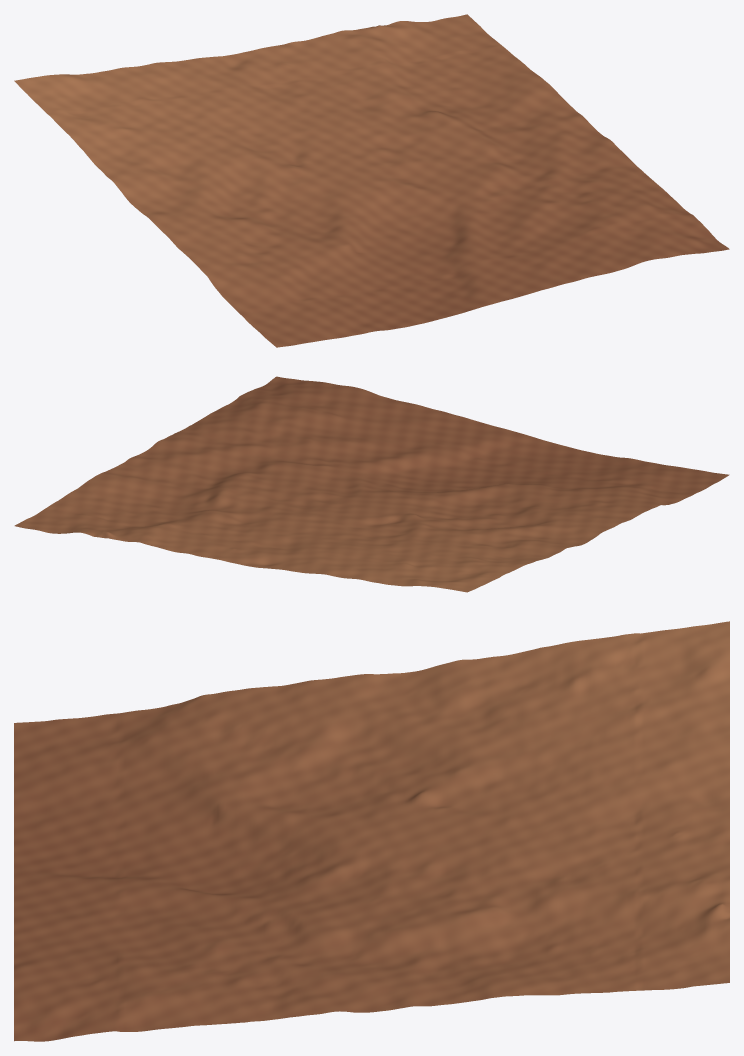
File: gale-hirise.glb
3 renders of one model, top to bottom at view 1: azimuth 30°, elevation 25°; view 2: azimuth 150°, elevation 25°; view 3: azimuth 270°, elevation 25°, orthographic. The views are drawn at different scales.
Visible parts, largest first — view 1: Ground; view 2: Ground; view 3: Ground.
Part boxes in pixels (x1=…): Ground: x1=14, y1=14, x2=729, y2=347; Ground: x1=14, y1=376, x2=729, y2=592; Ground: x1=14, y1=621, x2=729, y2=1041.
Bounding box in the file's own units: 202 × 37.04 × 202.
